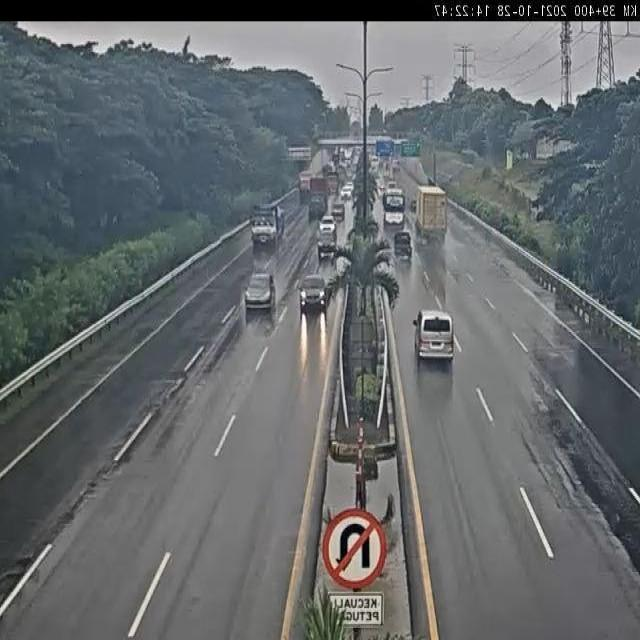Bus: (379, 188, 411, 227)
Car: (414, 310, 455, 364), (295, 272, 330, 312), (245, 271, 276, 310), (316, 220, 338, 258), (394, 230, 413, 262), (319, 214, 336, 234), (331, 199, 345, 220), (340, 183, 352, 200)
Truck: (411, 184, 451, 241), (250, 202, 283, 245)
